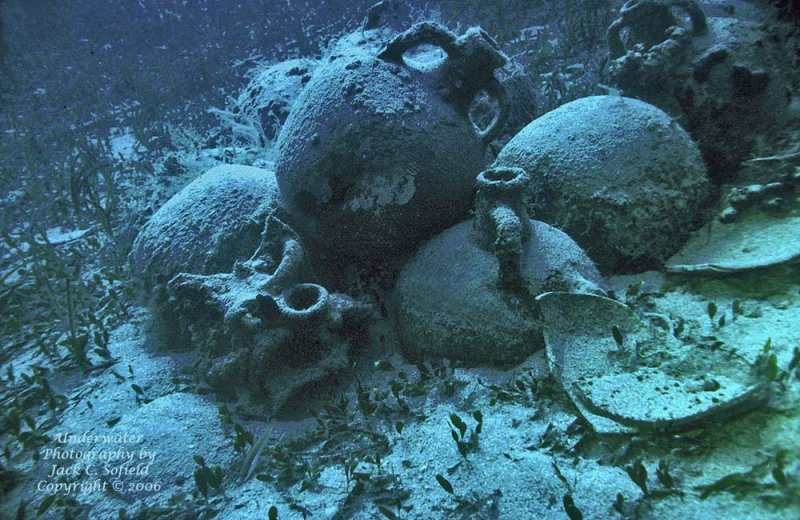amphora: (269, 24, 508, 258), (393, 166, 619, 358), (495, 94, 714, 269), (603, 1, 800, 170), (122, 162, 311, 303), (166, 216, 308, 369), (231, 288, 382, 407)
